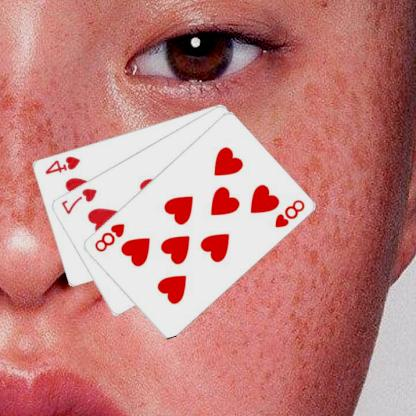4H: (43, 154, 82, 176)
7H: (60, 186, 100, 216)
8H: (93, 220, 127, 254), (274, 196, 307, 229)
